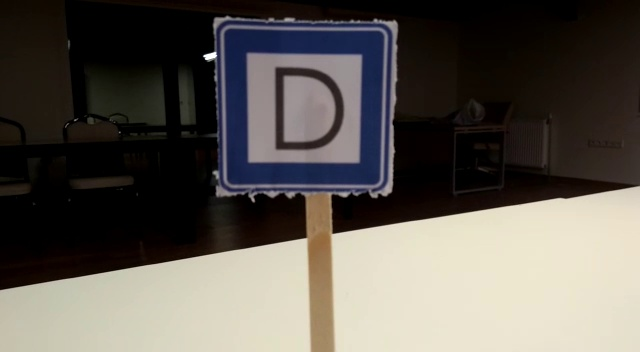durak: (216, 22, 392, 194)
